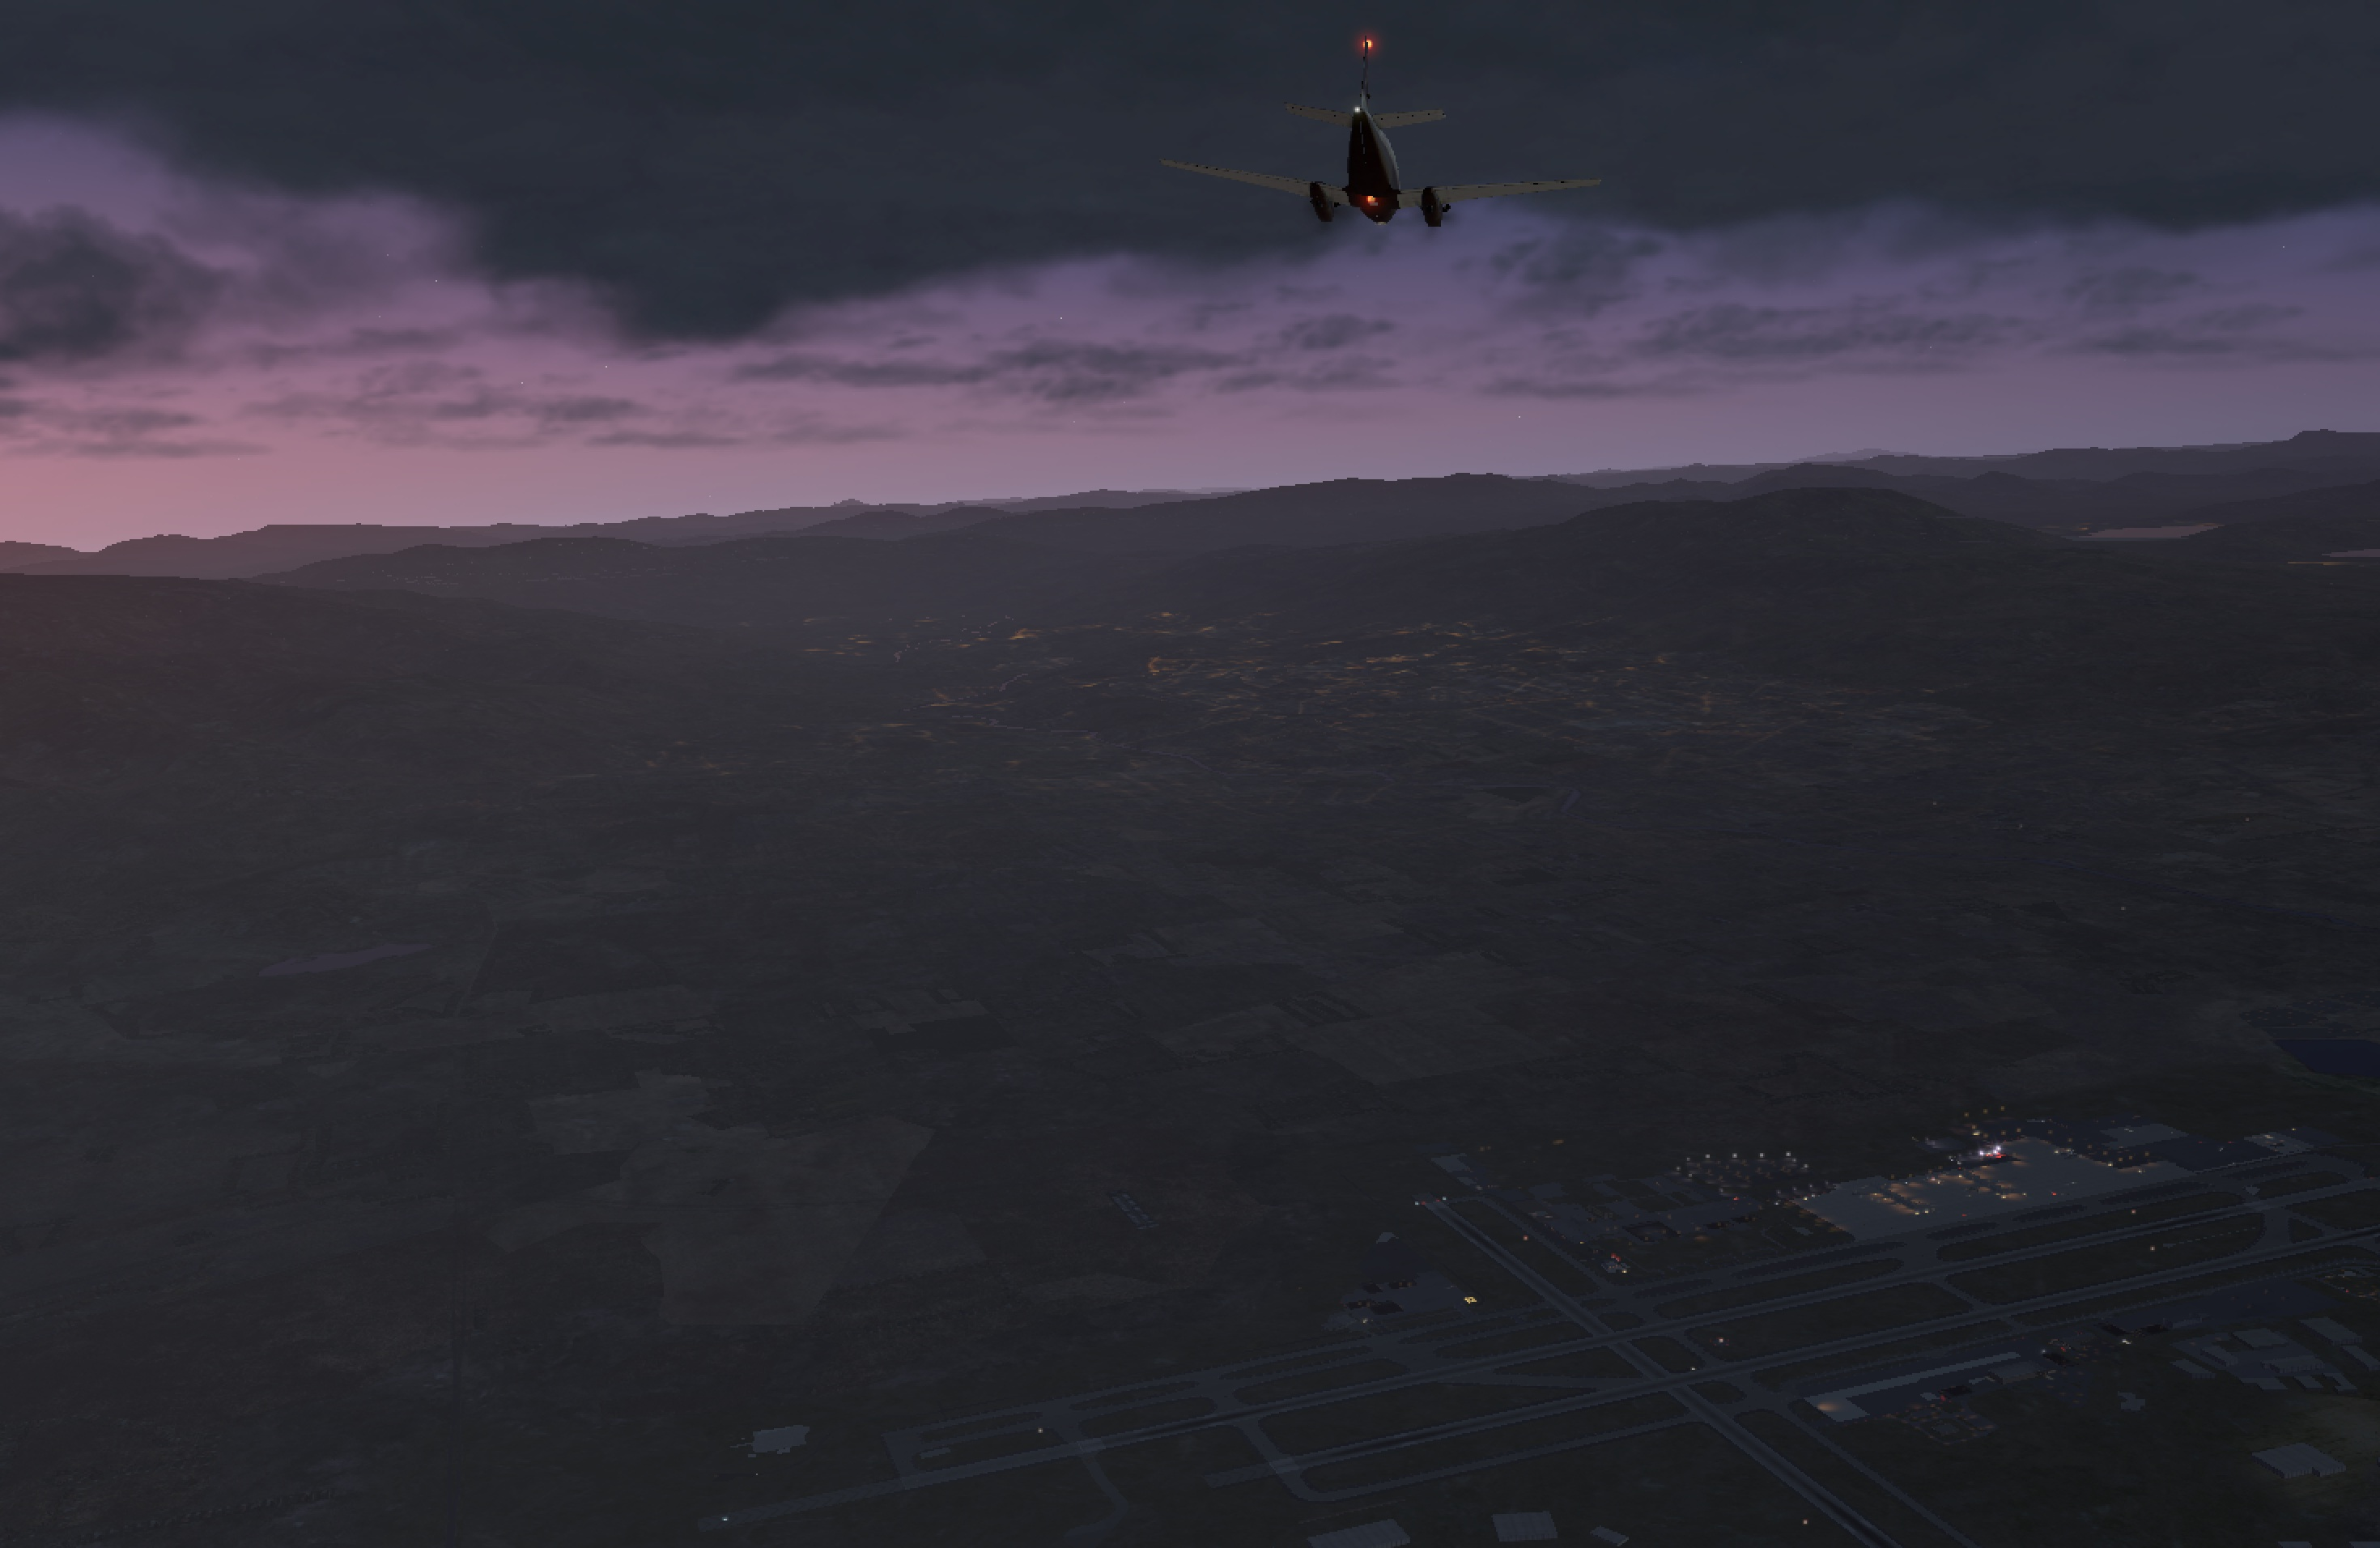aircraft: (1161, 123, 1589, 285)
